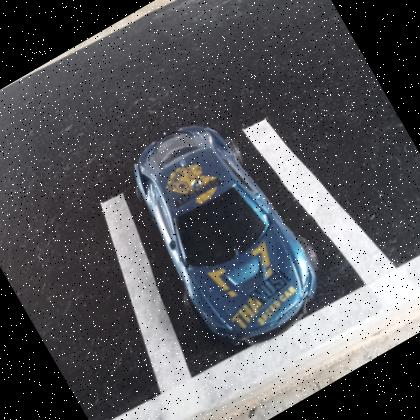Car: (134, 126, 318, 344)
